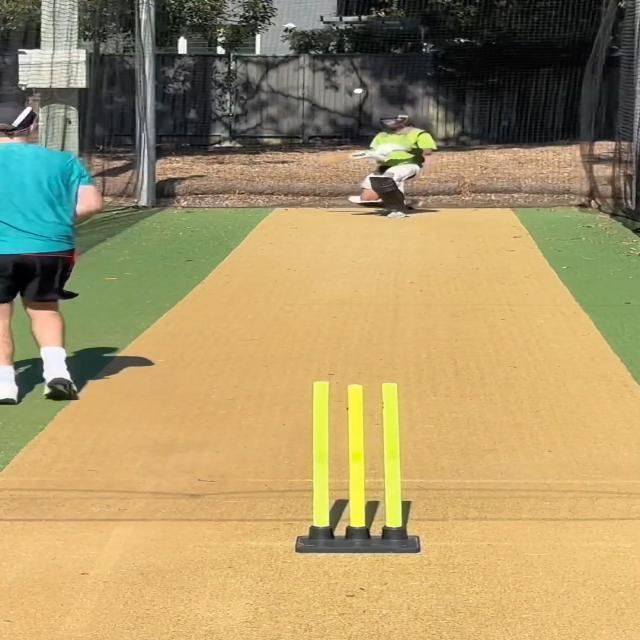ball: (352, 87, 366, 95)
stump: (297, 379, 421, 553)
